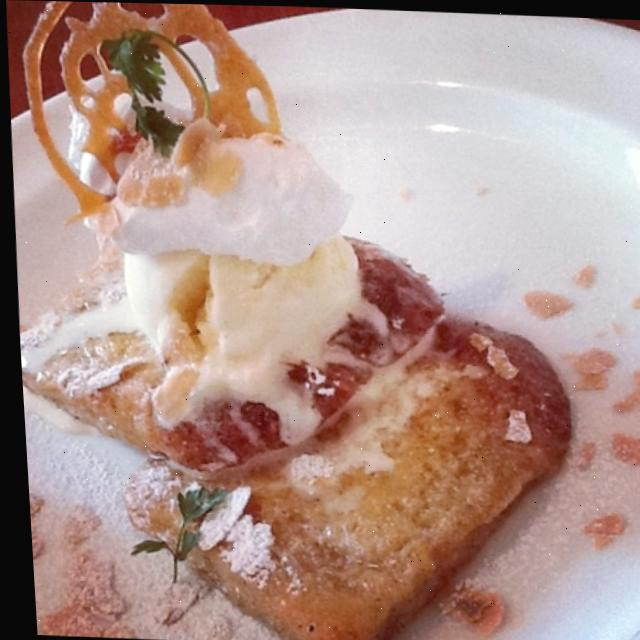面包点心: (1, 14, 640, 640)
